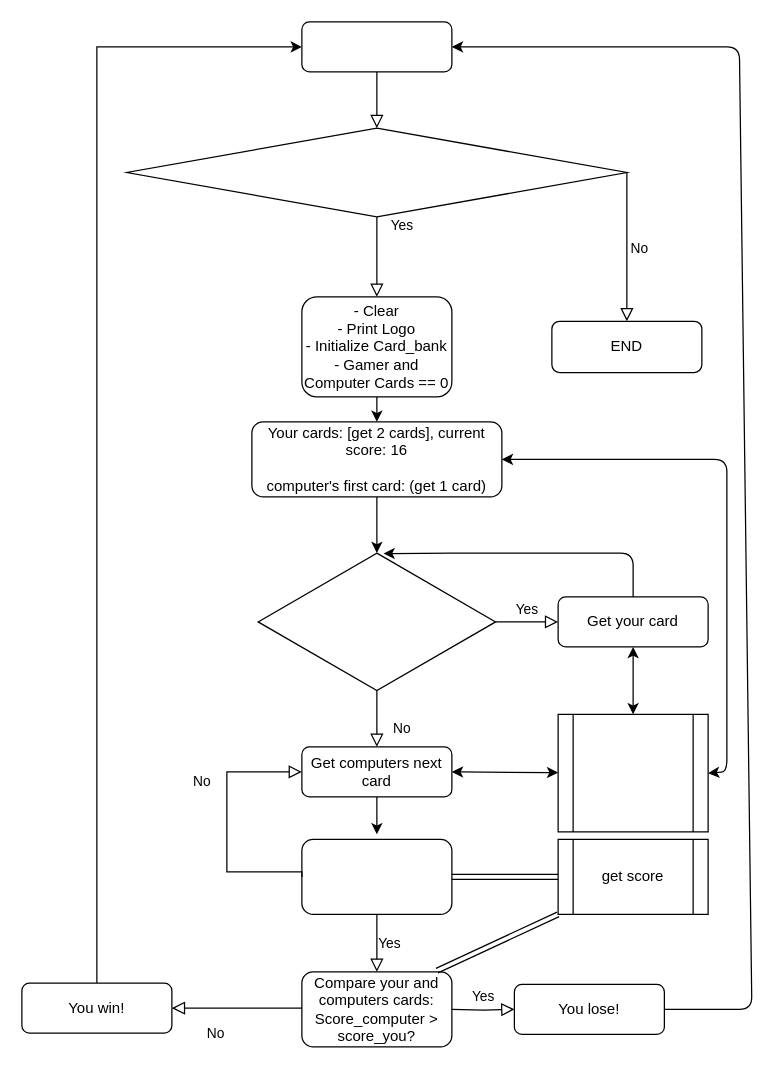
This 784x1069 diagram has some shape labels left out. The centre of each missing label's shape, as x and y in pixels:
"1. get card from Card_bank 2. Add card to players card 3. compute score" belongs at (x=632, y=772).
"Check if sum of cards <= 21 --> You went over. You lose" belongs at (x=376, y=876).
"Do you want to play a game of Blackjack? Type 'y' or 'n':" belongs at (x=376, y=172).
"START" belongs at (x=376, y=46).
"Type 'y' to get another card, type 'n' to pass:" belongs at (x=376, y=621).
